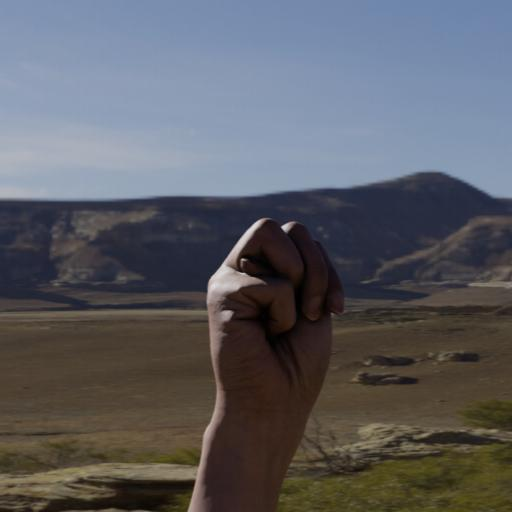M: (174, 204, 367, 512)
